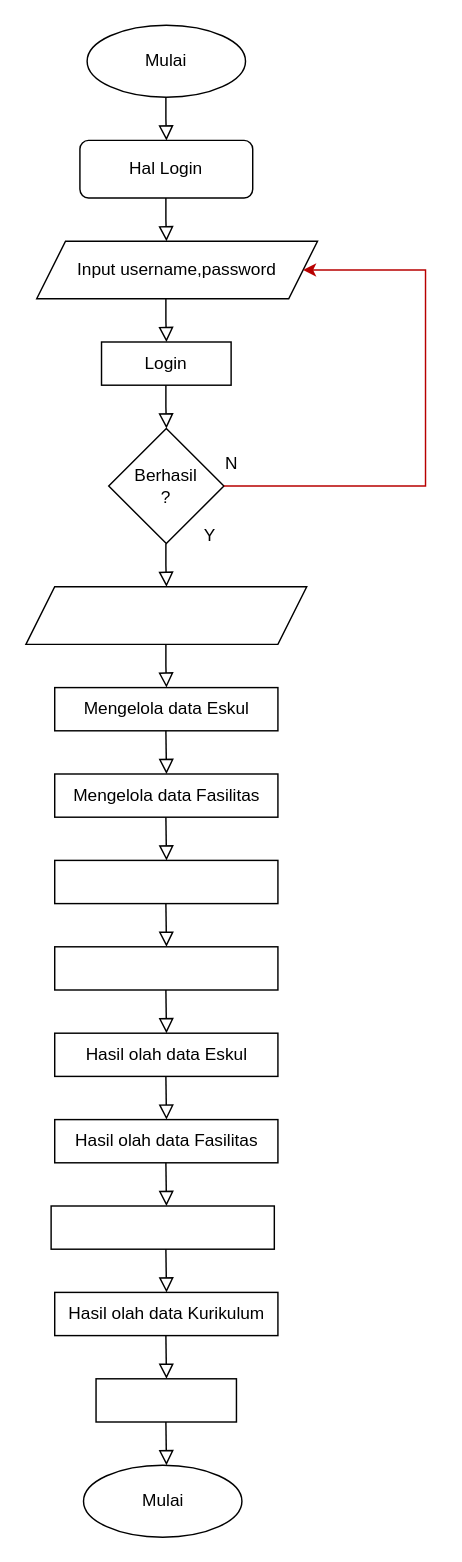
The diagram is 462 pixels wide and 1562 high, and some of its shapes have lost their labels. Each missing label, with the centre of its shape:
"Hal Dasboard" goes at point 165,614.
"Hasil olah data Artikel" goes at point 162,1227.
"Logout" goes at point 165,1399.
"Mengelola data Artikel" goes at point 165,881.
"Mengelola data Kurikulum" goes at point 165,967.
